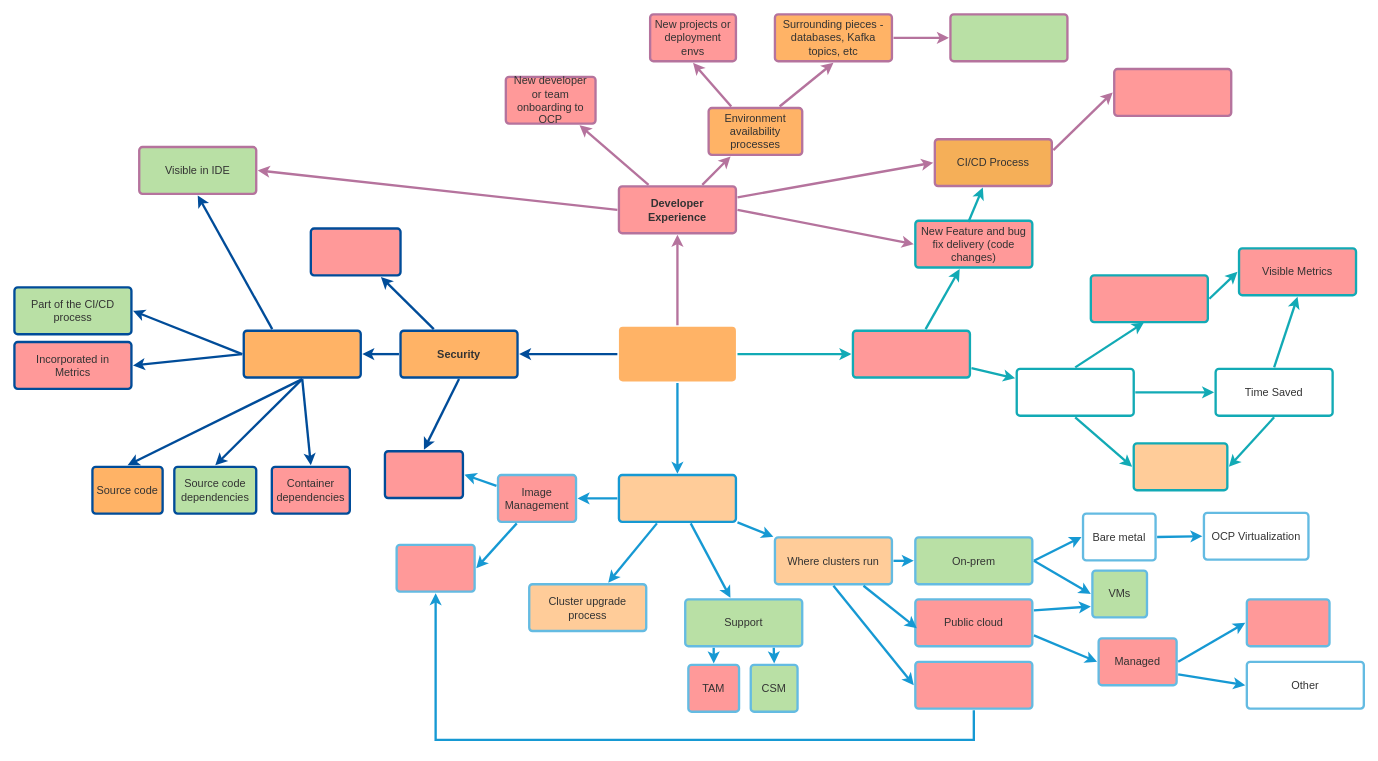
Image size: 1378x761. Some labels were removed from this diagram. The centre of each missing label's shape, as x and y in pixels:
"Automated repeatable auditable" goes at pixel 1172 92.
"Base layer update process" goes at pixel 355 251.
"Clean up process" goes at pixel 423 474.
"Cluster Care" goes at pixel 677 498.
"Delivery of Business Value" goes at pixel 911 353.
"Feeding multiple clusters" goes at pixel 435 567.
"IT tooling containerized" goes at pixel 1180 466.
"Money Saved" goes at pixel 1075 392.
"Multiple - hybrid or otherwise" goes at pixel 973 684.
"OpenShift Value Realized" goes at pixel 677 353.
"OSD, ARO, ROSA, ROKS" goes at pixel 1287 622.
"Product-related (swap out unused or expensive products)" goes at pixel 1149 298.
"Security Scanning" goes at pixel 302 353.
"Surrounding pieces containerized" goes at pixel 1008 37.
